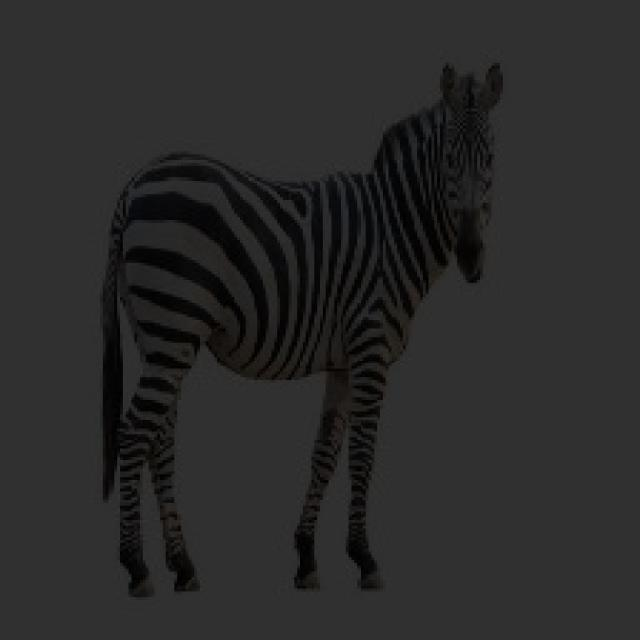bear: (109, 61, 553, 586)
